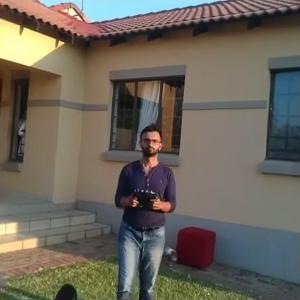follow: (110, 120, 180, 298)
